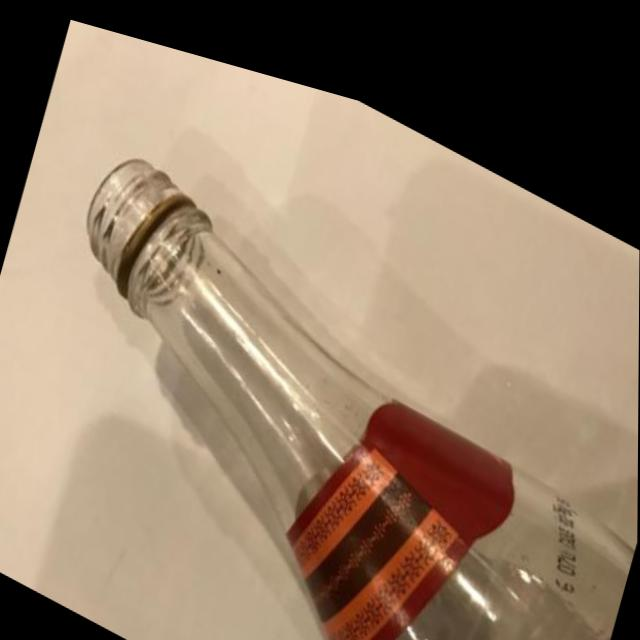glass: (0, 54, 640, 640)
